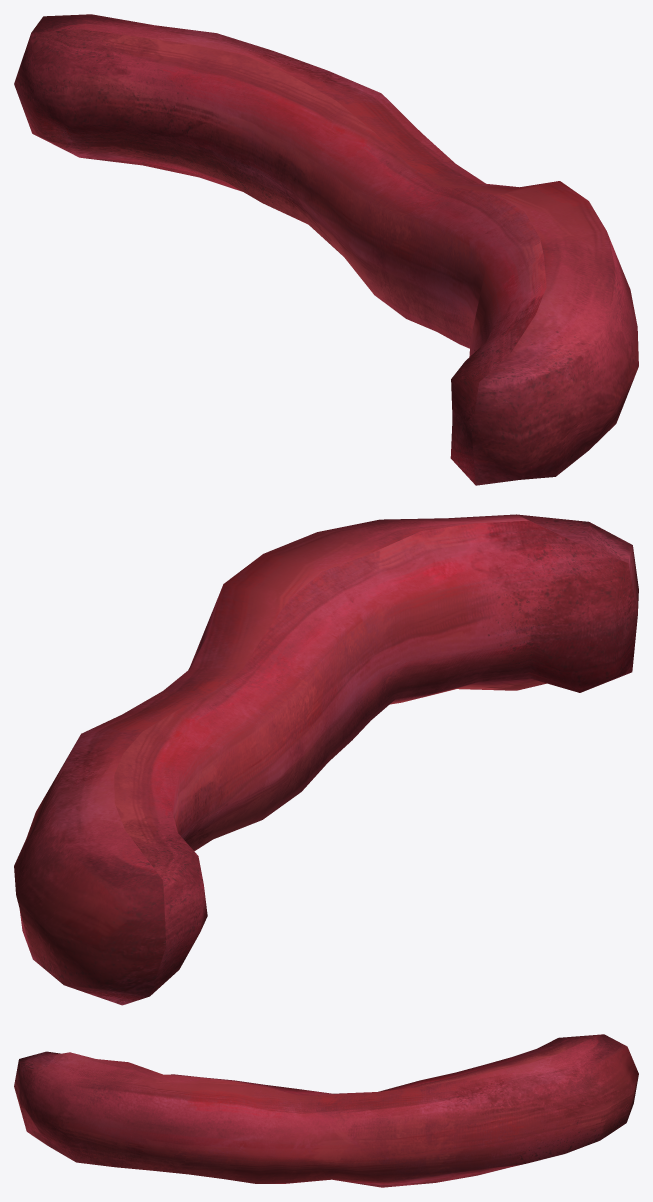
The model's file is vein-6.fbx.
The picture shows the model from 3 angles, top to bottom: view 1: azimuth 30°, elevation 25°; view 2: azimuth 150°, elevation 25°; view 3: azimuth 270°, elevation 25°; orthographic projection. The views are drawn at different scales.
Visible parts, largest first — view 1: VEIN 6; view 2: VEIN 6; view 3: VEIN 6.
Part boxes in pixels (x1,y1,x2,y2): VEIN 6: (14, 14, 638, 485); VEIN 6: (14, 514, 638, 1005); VEIN 6: (14, 1034, 638, 1187).
Size of the model in its own units: 253 by 161 by 802.
